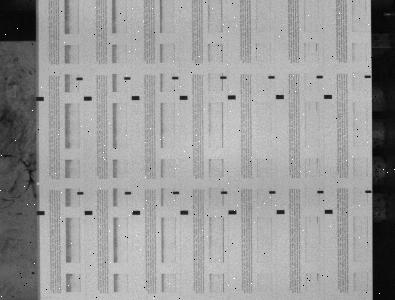backgroundclutter: (31, 271, 35, 274)
qblock: (180, 210, 189, 215), (324, 209, 333, 214), (324, 94, 332, 99), (132, 210, 140, 215), (84, 210, 92, 215), (36, 96, 44, 101), (180, 95, 188, 100), (84, 96, 92, 101), (228, 210, 237, 214), (131, 96, 140, 100), (277, 210, 285, 214), (276, 95, 284, 99), (228, 95, 236, 99), (37, 211, 45, 215)
smallqblock: (172, 76, 179, 80), (77, 191, 84, 195), (268, 75, 275, 79), (269, 190, 276, 194), (124, 77, 131, 80), (76, 77, 83, 80), (316, 75, 323, 78), (173, 191, 180, 194), (221, 191, 228, 194), (317, 190, 324, 193), (220, 76, 227, 79), (365, 190, 372, 193), (125, 191, 131, 194), (365, 75, 371, 78)
